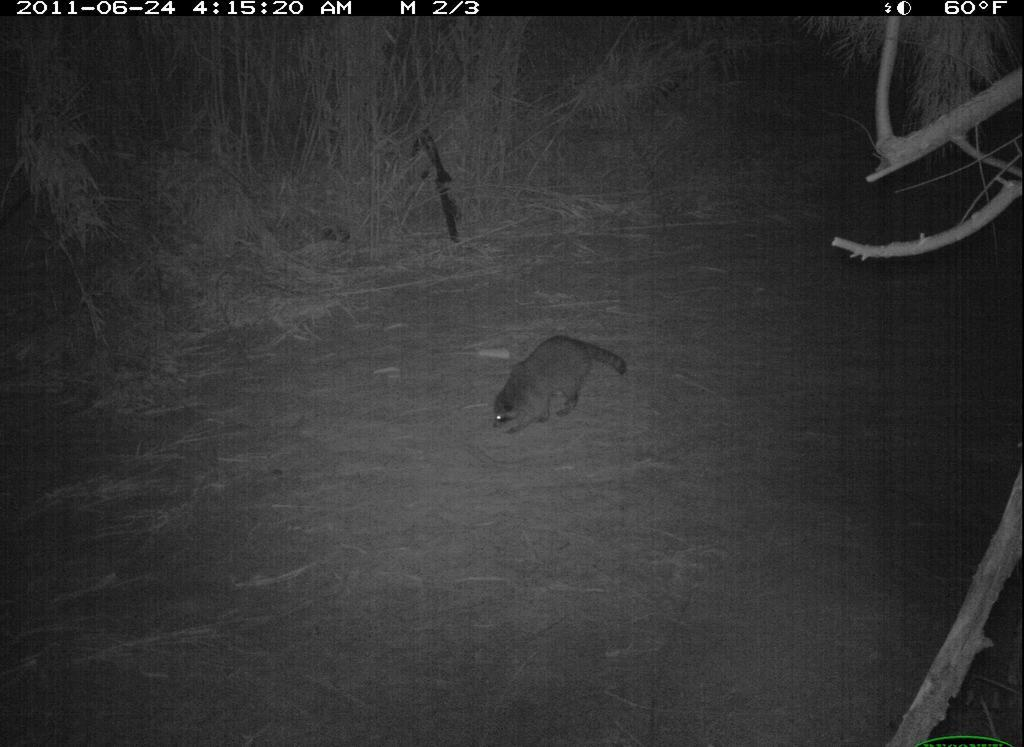raccoon: (488, 328, 635, 440)
